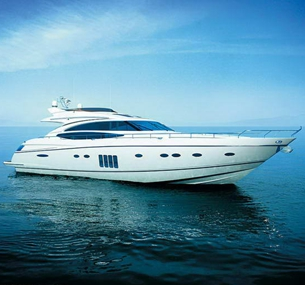yacht: (7, 98, 305, 185)
